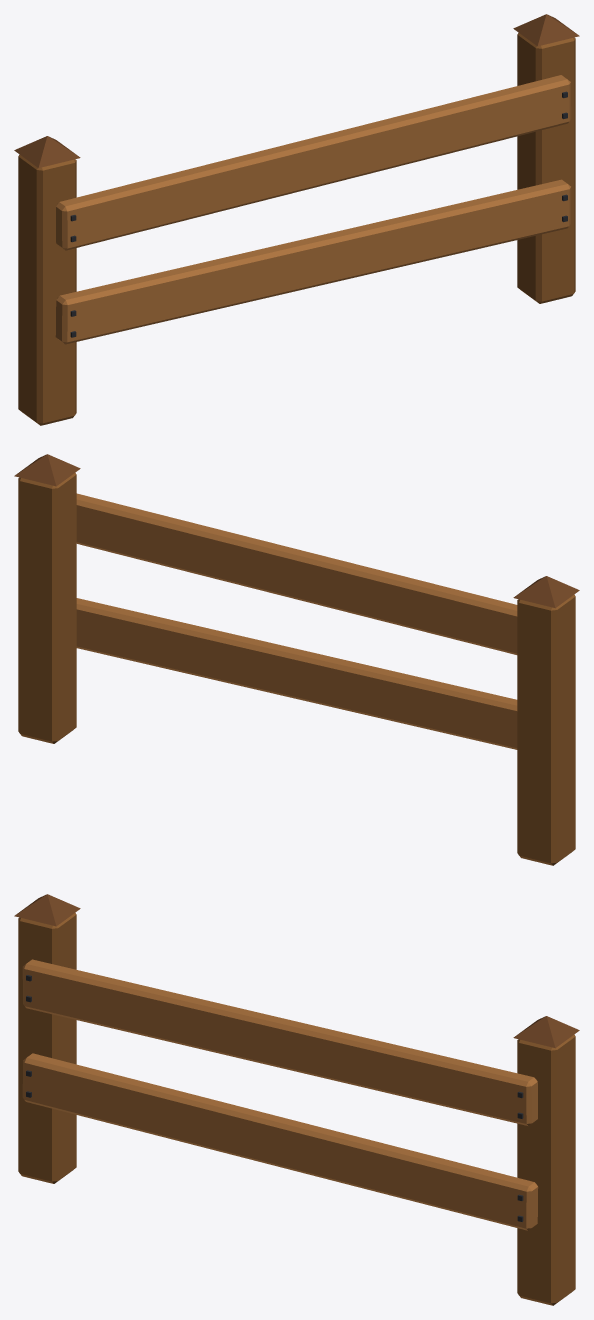
The model's file is Prop_FenceSegment.fbx.
3 views of the same model, one above another, from view 1: azimuth 30°, elevation 25°; view 2: azimuth 150°, elevation 25°; view 3: azimuth 330°, elevation 25° (orthographic).
Visible parts, largest first — view 1: Prop_FenceSegment; view 2: Prop_FenceSegment; view 3: Prop_FenceSegment.
Part boxes in pixels (x1=…): Prop_FenceSegment: x1=14, y1=14, x2=579, y2=425; Prop_FenceSegment: x1=14, y1=454, x2=579, y2=865; Prop_FenceSegment: x1=14, y1=894, x2=579, y2=1305.
Bounding box in the file's own units: 2.17 × 1.07 × 0.244.
